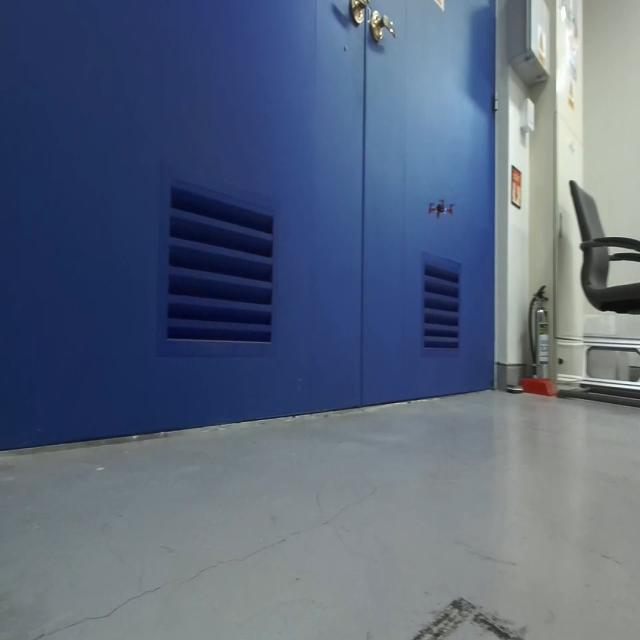crazyflie: (426, 191, 457, 228)
